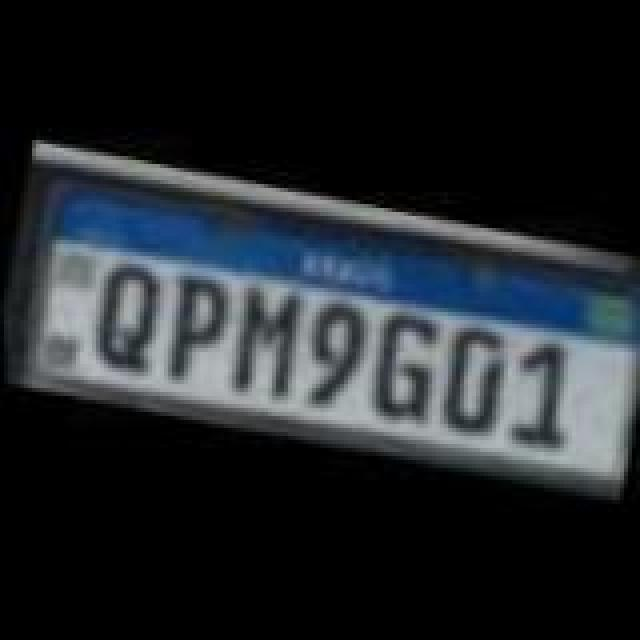1: (490, 328, 582, 456)
9: (286, 290, 378, 414)
D: (426, 314, 510, 434)
G: (360, 302, 448, 430)
M: (212, 272, 304, 404)
P: (154, 262, 234, 386)
Q: (76, 256, 168, 380)
